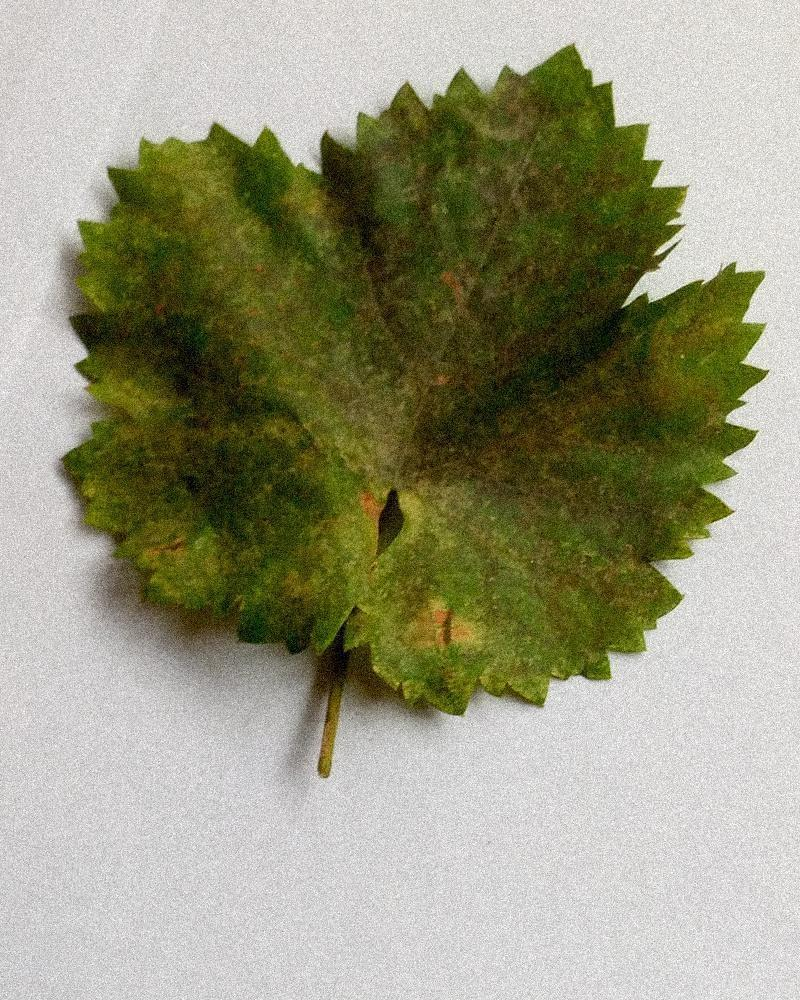Powdery-Mildew: (484, 143, 620, 251), (335, 432, 452, 554), (399, 575, 503, 678), (136, 517, 234, 607), (432, 255, 495, 318)
